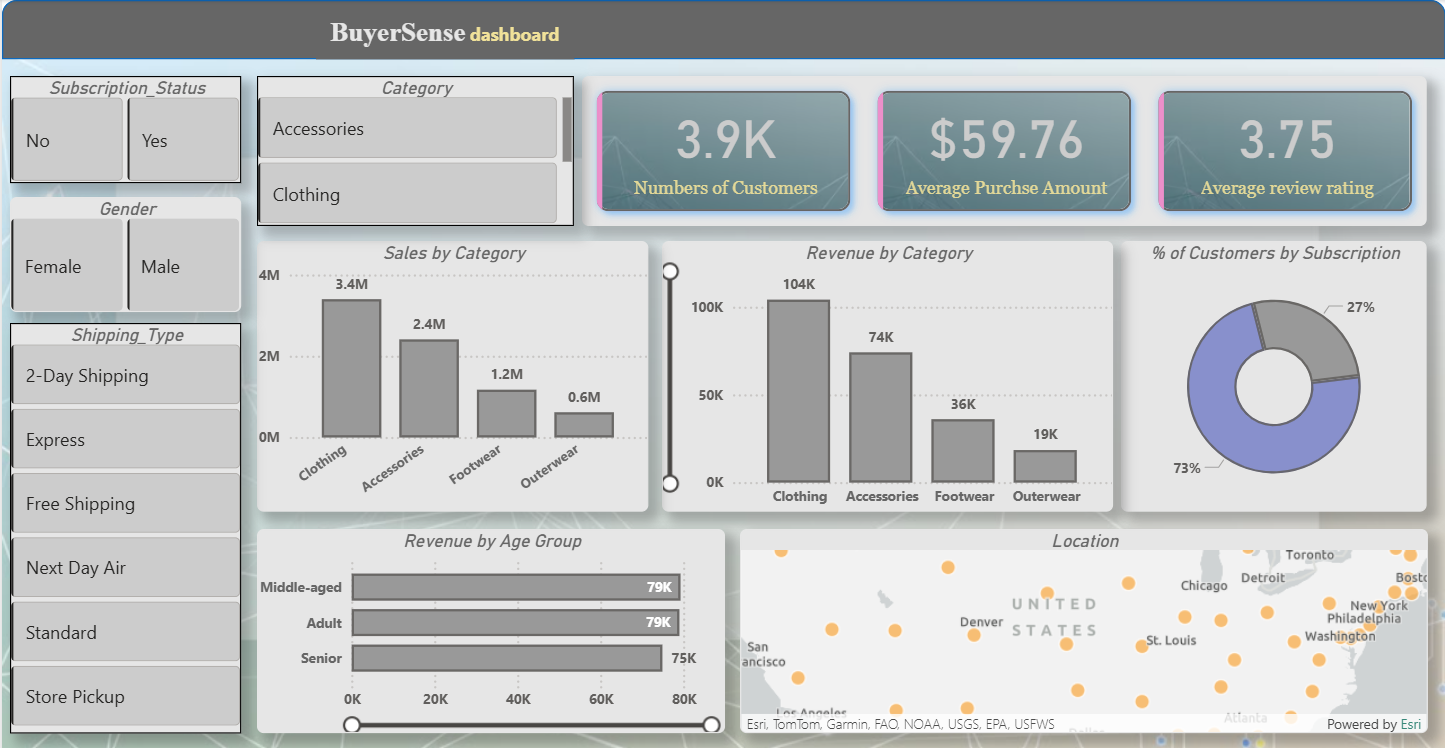

Layout of this report page (visuals, bound fields, positions):
{"tool":"powerbi","page":{"name":"Page 1","canvas":[1280,720],"ordinal":0},"visuals":[{"type":"cardVisual","fields":{"Data":["customer_behaviour_analysis customer.Numbers of Customers","customer_behaviour_analysis customer.Average Purchse Amount","customer_behaviour_analysis customer.Average review rating"]},"box":[514.1,67.5,749.5,133.1],"z":0},{"type":"shape","box":[0,0,1280,52.5],"z":1000},{"type":"textbox","box":[278.2,10.7,228.6,41.8],"z":2000},{"type":"donutChart","title":"% of Customers by Subscription","fields":{"Category":["customer_behaviour_analysis customer.subscription_status"],"Y":["CountNonNull(customer_behaviour_analysis customer.customer_id)"]},"box":[992.6,214.1,271,240.2],"z":3000},{"type":"clusteredColumnChart","title":"Revenue by Category","fields":{"Category":["customer_behaviour_analysis customer.category"],"Y":["Sum(customer_behaviour_analysis customer.purchase_amount)"]},"box":[585.5,214.1,400.3,240.2],"z":4000},{"type":"clusteredColumnChart","title":"Sales by Category","fields":{"Category":["customer_behaviour_analysis customer.category"],"Y":["Sum(customer_behaviour_analysis customer.customer_id)"]},"box":[225.7,214.1,347.2,240.2],"z":5000},{"type":"advancedSlicerVisual","title":"Subscription_Status","fields":{"Values":["customer_behaviour_analysis customer.subscription_status"]},"box":[6.8,67.5,205.5,94.5],"z":6000},{"type":"advancedSlicerVisual","title":"Gender","fields":{"Values":["customer_behaviour_analysis customer.gender"]},"box":[6.8,174.6,205.5,102.2],"z":7000},{"type":"advancedSlicerVisual","title":"Category","fields":{"Values":["customer_behaviour_analysis customer.category"]},"box":[225.7,67.5,280.7,133.1],"z":8000},{"type":"advancedSlicerVisual","title":"Shipping_Type","fields":{"Values":["customer_behaviour_analysis customer.shipping_type"]},"box":[6.8,286.5,205.5,363.6],"z":9000},{"type":"clusteredBarChart","title":"Revenue by Age Group","fields":{"Y":["Sum(customer_behaviour_analysis customer.purchase_amount)"],"Category":["customer_behaviour_analysis customer.age_group"]},"box":[225.7,468.8,414.8,181.3],"z":10000},{"type":"esriVisual","title":"Location","fields":{"Location":["customer_behaviour_analysis customer.location"]},"box":[654,468.8,609.6,181.3],"z":11000}]}

Visuals, with their boxes on the page's 1280x720 design canvas (x1, y1, x2, y2). These are canvas units, not pixel positions in the 1445x748 screenshot, which may show the page scaled, cropped or inside an application window:
cardVisual - customer_behaviour_analysis customer.Numbers of Customers x customer_behaviour_analysis customer.Average Purchse Amount: {"left": 514, "top": 68, "right": 1264, "bottom": 201}
shape: {"left": 0, "top": 0, "right": 1280, "bottom": 52}
textbox: {"left": 278, "top": 11, "right": 507, "bottom": 52}
"% of Customers by Subscription" donutChart: {"left": 993, "top": 214, "right": 1264, "bottom": 454}
"Revenue by Category" clusteredColumnChart: {"left": 586, "top": 214, "right": 986, "bottom": 454}
"Sales by Category" clusteredColumnChart: {"left": 226, "top": 214, "right": 573, "bottom": 454}
"Subscription_Status" advancedSlicerVisual: {"left": 7, "top": 68, "right": 212, "bottom": 162}
"Gender" advancedSlicerVisual: {"left": 7, "top": 175, "right": 212, "bottom": 277}
"Category" advancedSlicerVisual: {"left": 226, "top": 68, "right": 506, "bottom": 201}
"Shipping_Type" advancedSlicerVisual: {"left": 7, "top": 286, "right": 212, "bottom": 650}
"Revenue by Age Group" clusteredBarChart: {"left": 226, "top": 469, "right": 640, "bottom": 650}
"Location" esriVisual: {"left": 654, "top": 469, "right": 1264, "bottom": 650}
